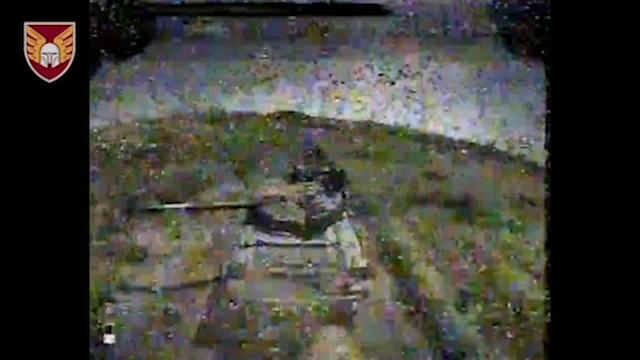tank: (143, 156, 373, 333)
